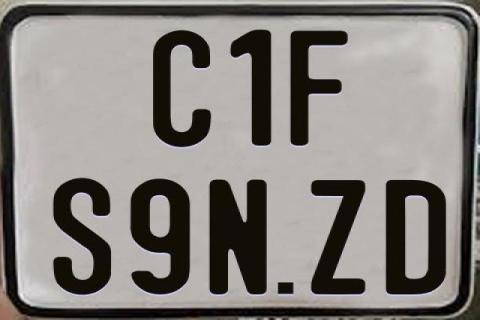0: (130, 177, 195, 295), (227, 30, 271, 146)
C: (153, 29, 211, 148)
D: (386, 179, 446, 293)
F: (287, 30, 351, 150)
N: (208, 179, 272, 299)
S: (51, 177, 113, 297)
Z: (309, 179, 363, 293)
